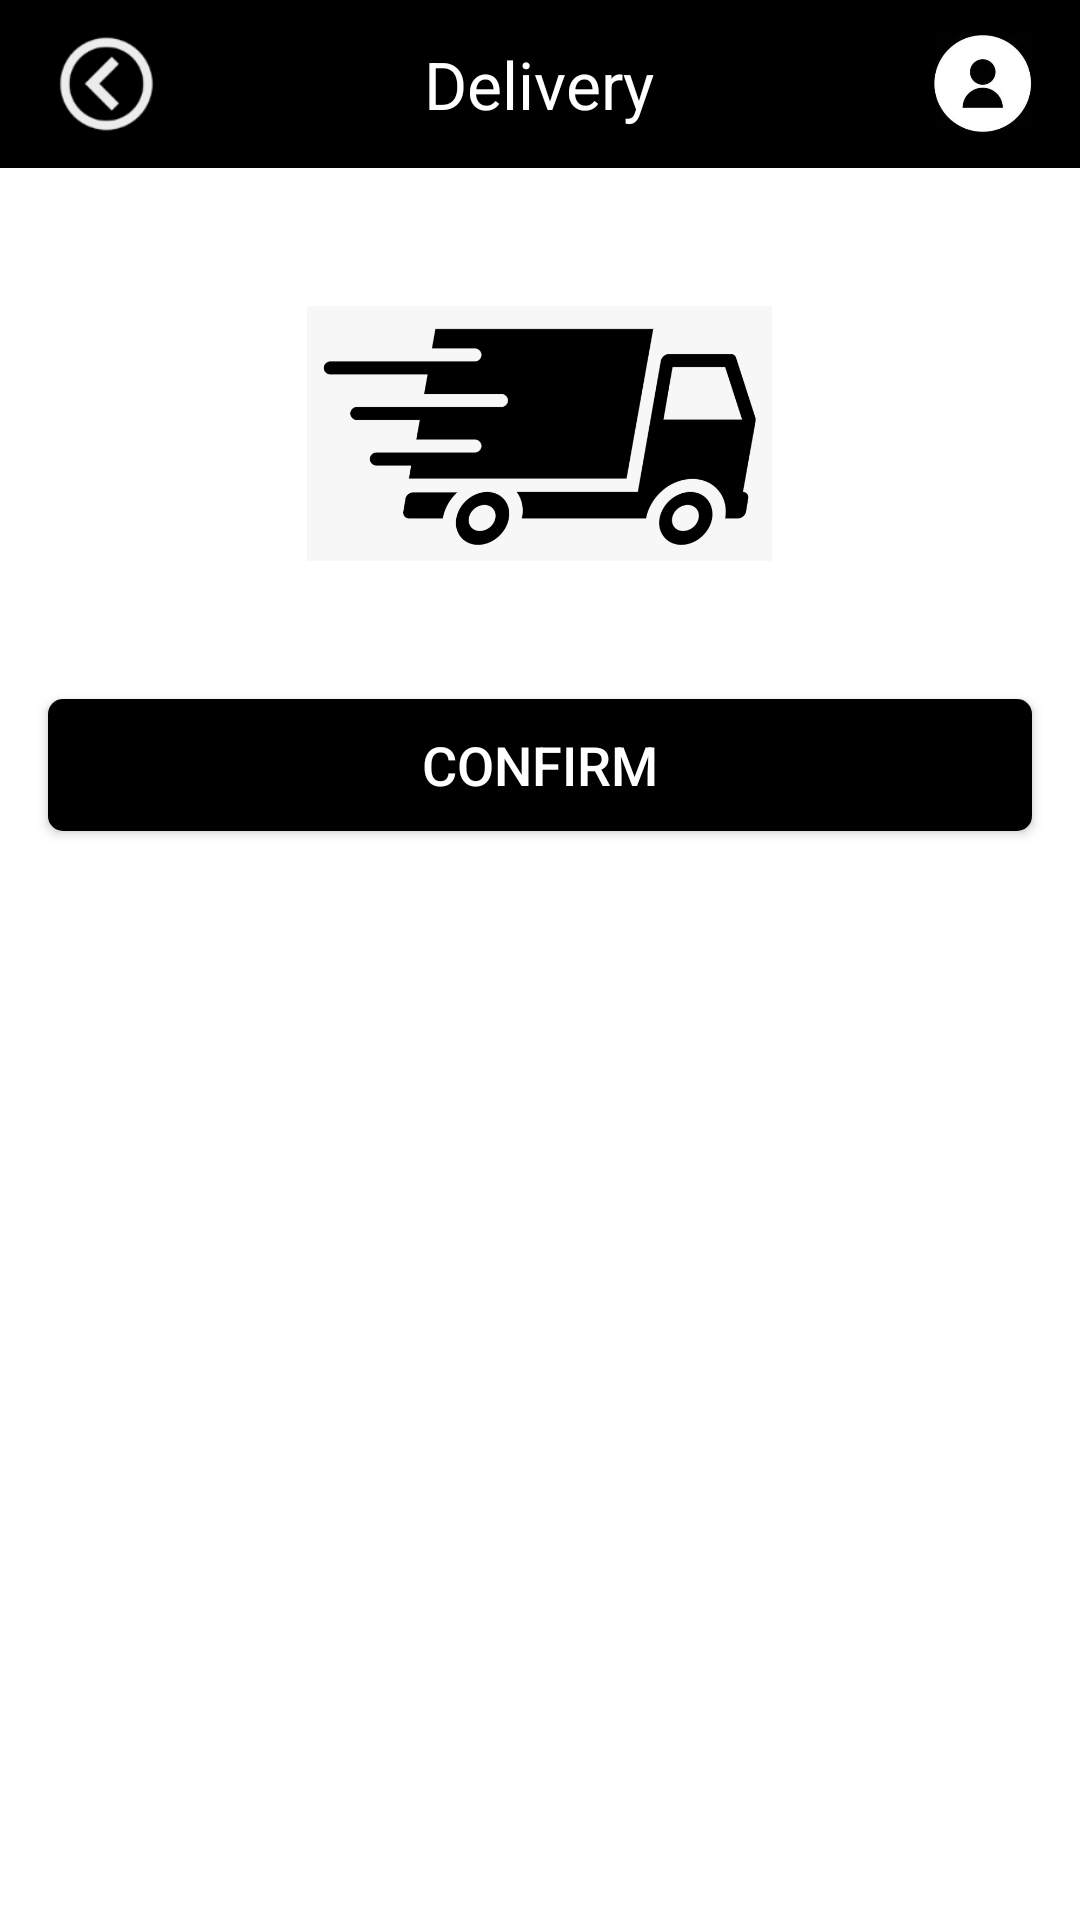

Icons on this 1080x1920 Android screen, each with the point to tap as (x=x, y=y):
account: (x=982, y=83)
back: (x=106, y=84)
